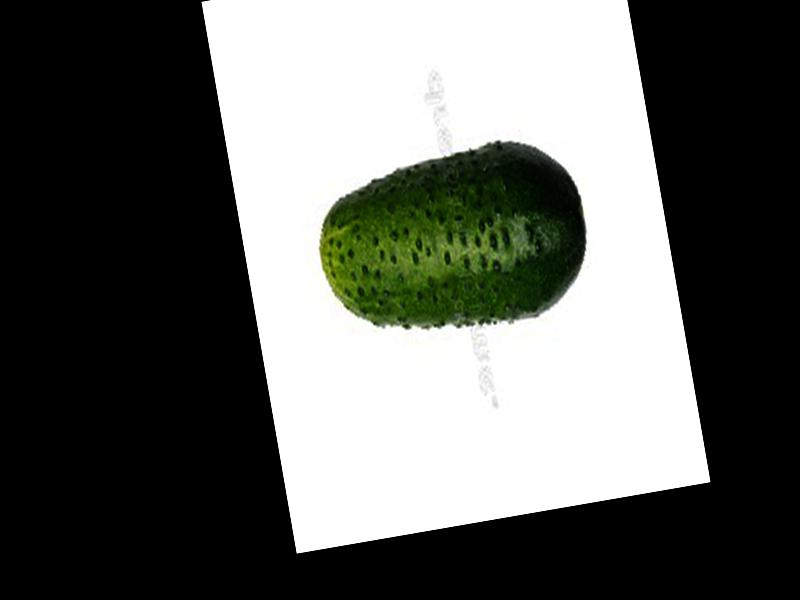Cucumber: (304, 128, 600, 354)
